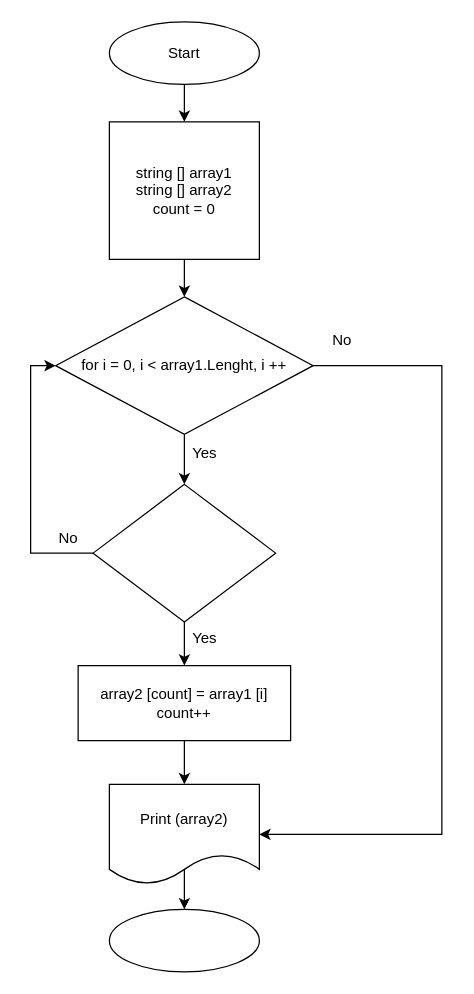
Some shapes in this 474 by 994 pixel diagram are drawn without their labels. Each missing label, with the centre of its shape:
"array1.Lenght <=3" belongs at point 184,552.
"End" belongs at point 183,940.
